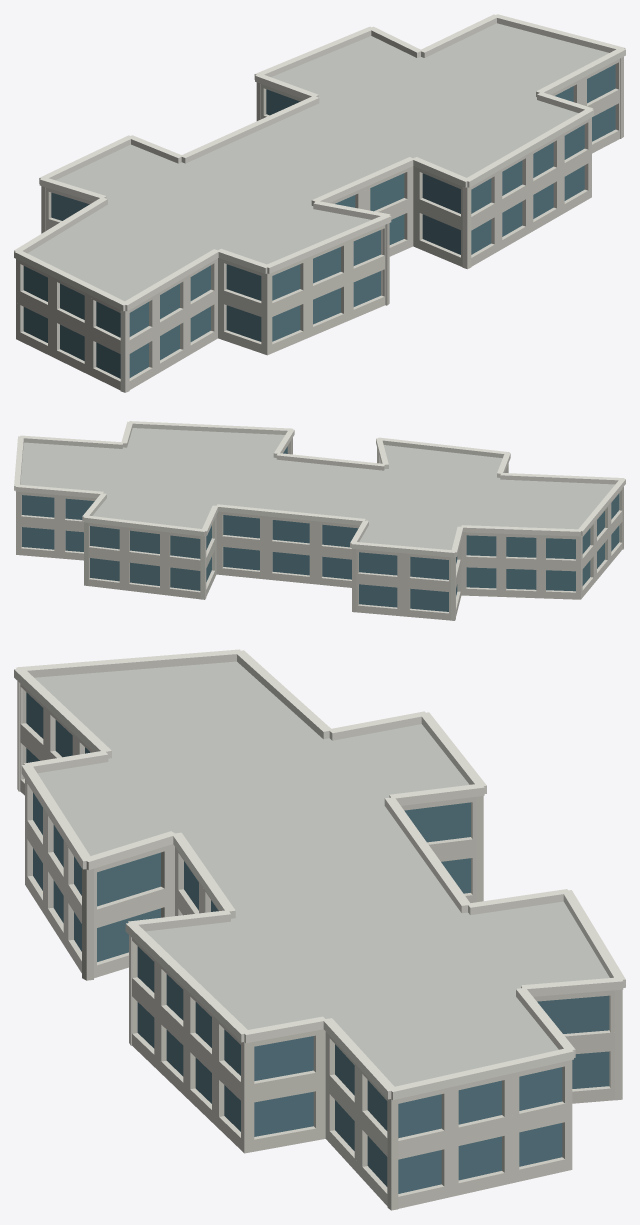
File: sb_1556514394.far.glb
The picture shows the model from 3 angles, top to bottom: view 1: azimuth 30°, elevation 25°; view 2: azimuth 150°, elevation 25°; view 3: azimuth 270°, elevation 25°; orthographic projection. The views are drawn at different scales.
Parts seen in each view (by area): view 1: roof, wall, glass, trim; view 2: roof, wall, glass, trim; view 3: roof, wall, glass, trim.
Boxes of the visible parts, x1,y1,x2,y2 form: roof: [27, 23, 608, 301]; wall: [16, 57, 623, 392]; glass: [23, 64, 615, 378]; trim: [14, 14, 625, 311]; roof: [20, 428, 614, 550]; wall: [16, 437, 623, 620]; glass: [22, 446, 619, 611]; trim: [14, 421, 625, 557]; roof: [34, 661, 609, 1086]; wall: [17, 681, 622, 1210]; glass: [26, 692, 609, 1193]; trim: [14, 649, 625, 1099].
Bounding box in the file's own units: 51.06 × 6.44 × 29.83.
